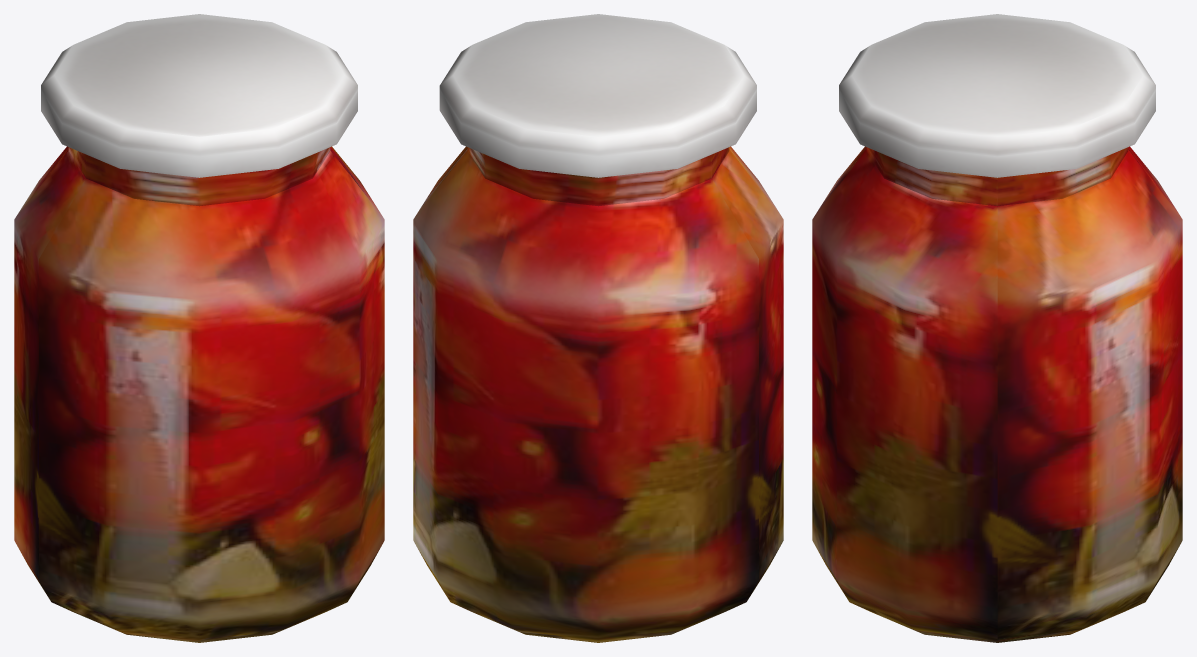
File: ChuCangShi_01_guantou_01.FBX
The picture shows the model from 3 angles, left to right: view 1: azimuth 30°, elevation 25°; view 2: azimuth 150°, elevation 25°; view 3: azimuth 270°, elevation 25°; orthographic projection.
Visible parts, largest first — view 1: ChuCangShi_01_guantou_01; view 2: ChuCangShi_01_guantou_01; view 3: ChuCangShi_01_guantou_01.
Part boxes in pixels (left/top/right/bottom): ChuCangShi_01_guantou_01: left=14, top=14, right=384, bottom=642; ChuCangShi_01_guantou_01: left=413, top=14, right=783, bottom=642; ChuCangShi_01_guantou_01: left=812, top=14, right=1182, bottom=642.
Size of the model in its own units: 86.12 by 130 by 86.12.
